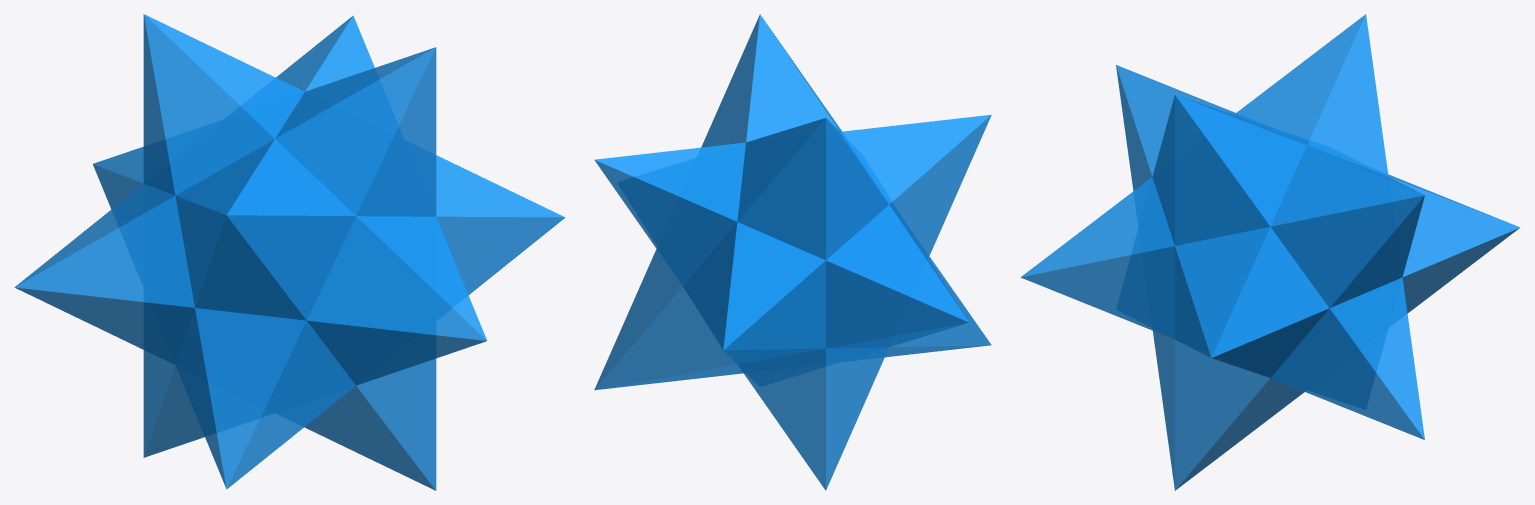
The model's file is fractalsmallstellateddodecahedron0.glb.
3 renders of one model, left to right at view 1: azimuth 30°, elevation 25°; view 2: azimuth 150°, elevation 25°; view 3: azimuth 270°, elevation 25°, orthographic. The views are drawn at different scales.
Size of the model in its own units: 12 by 10.49 by 12.
